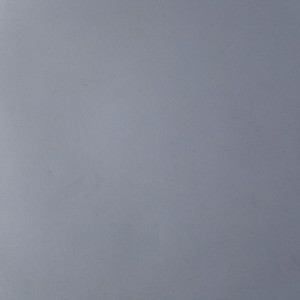back: (2, 1, 299, 299)
